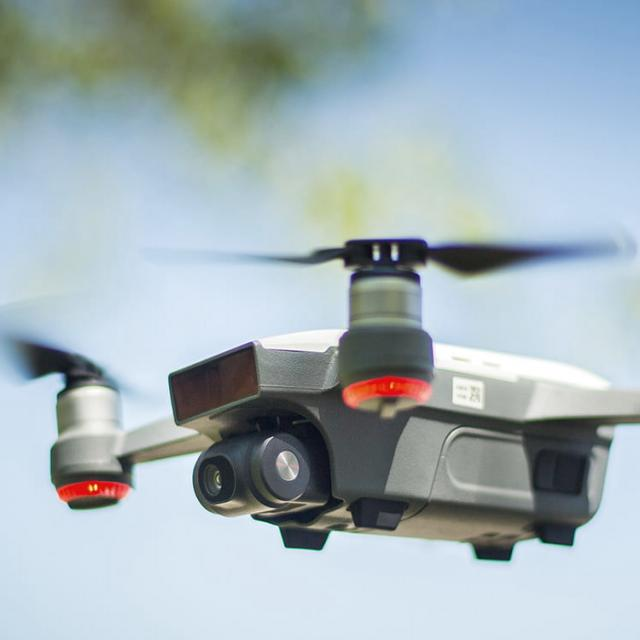drone: (0, 199, 640, 568)
